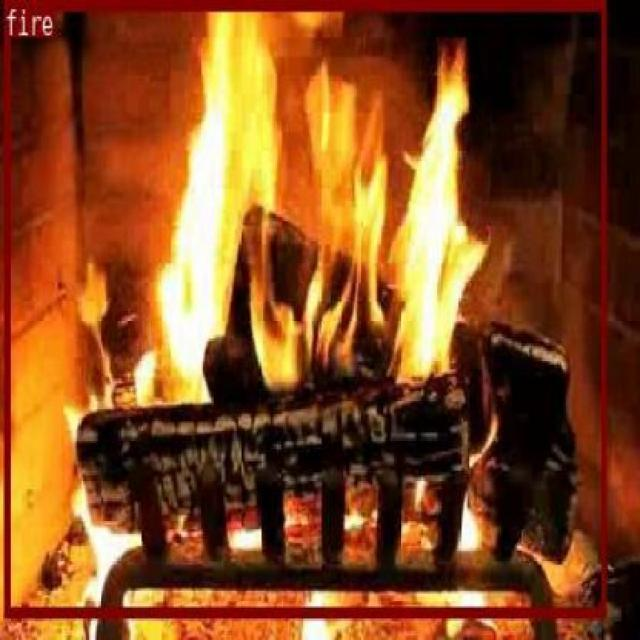Fire: (304, 308, 602, 617)
